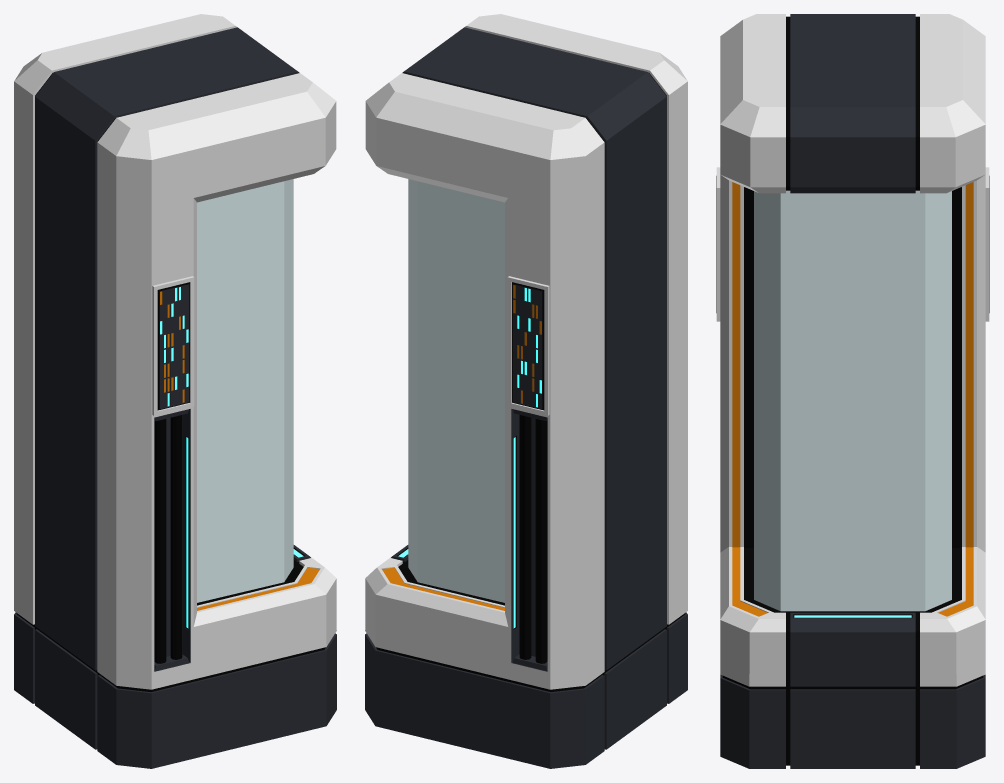
Rendered from SM_Botanical_SpecimenChamber_Tall.fbx.
3 renders of one model, left to right at view 1: azimuth 30°, elevation 25°; view 2: azimuth 150°, elevation 25°; view 3: azimuth 270°, elevation 25°, orthographic. The views are drawn at different scales.
Parts seen in each view (by area): view 1: SM_Botanical_SpecimenChamber_Tall; view 2: SM_Botanical_SpecimenChamber_Tall; view 3: SM_Botanical_SpecimenChamber_Tall.
Part boxes in pixels (x1=…): SM_Botanical_SpecimenChamber_Tall: x1=14, y1=14, x2=336, y2=768; SM_Botanical_SpecimenChamber_Tall: x1=365, y1=14, x2=687, y2=768; SM_Botanical_SpecimenChamber_Tall: x1=716, y1=14, x2=989, y2=768.
Size of the model in its own units: 71.39 by 193 by 73.49.
